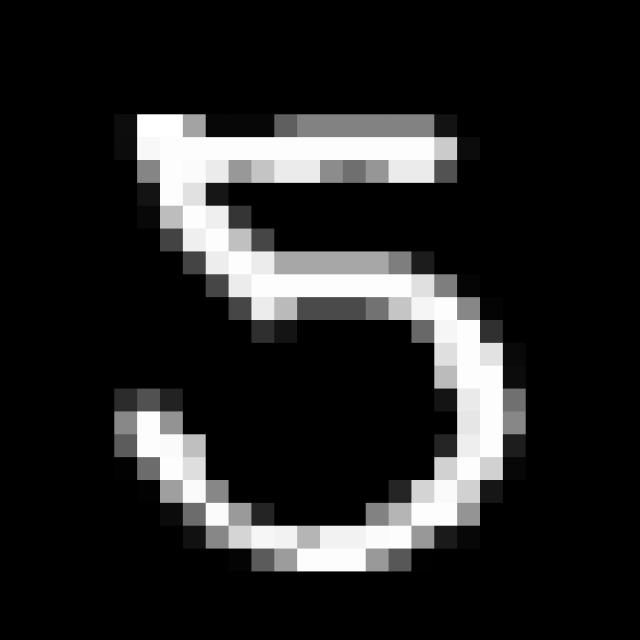five -5-: (98, 89, 537, 581)
